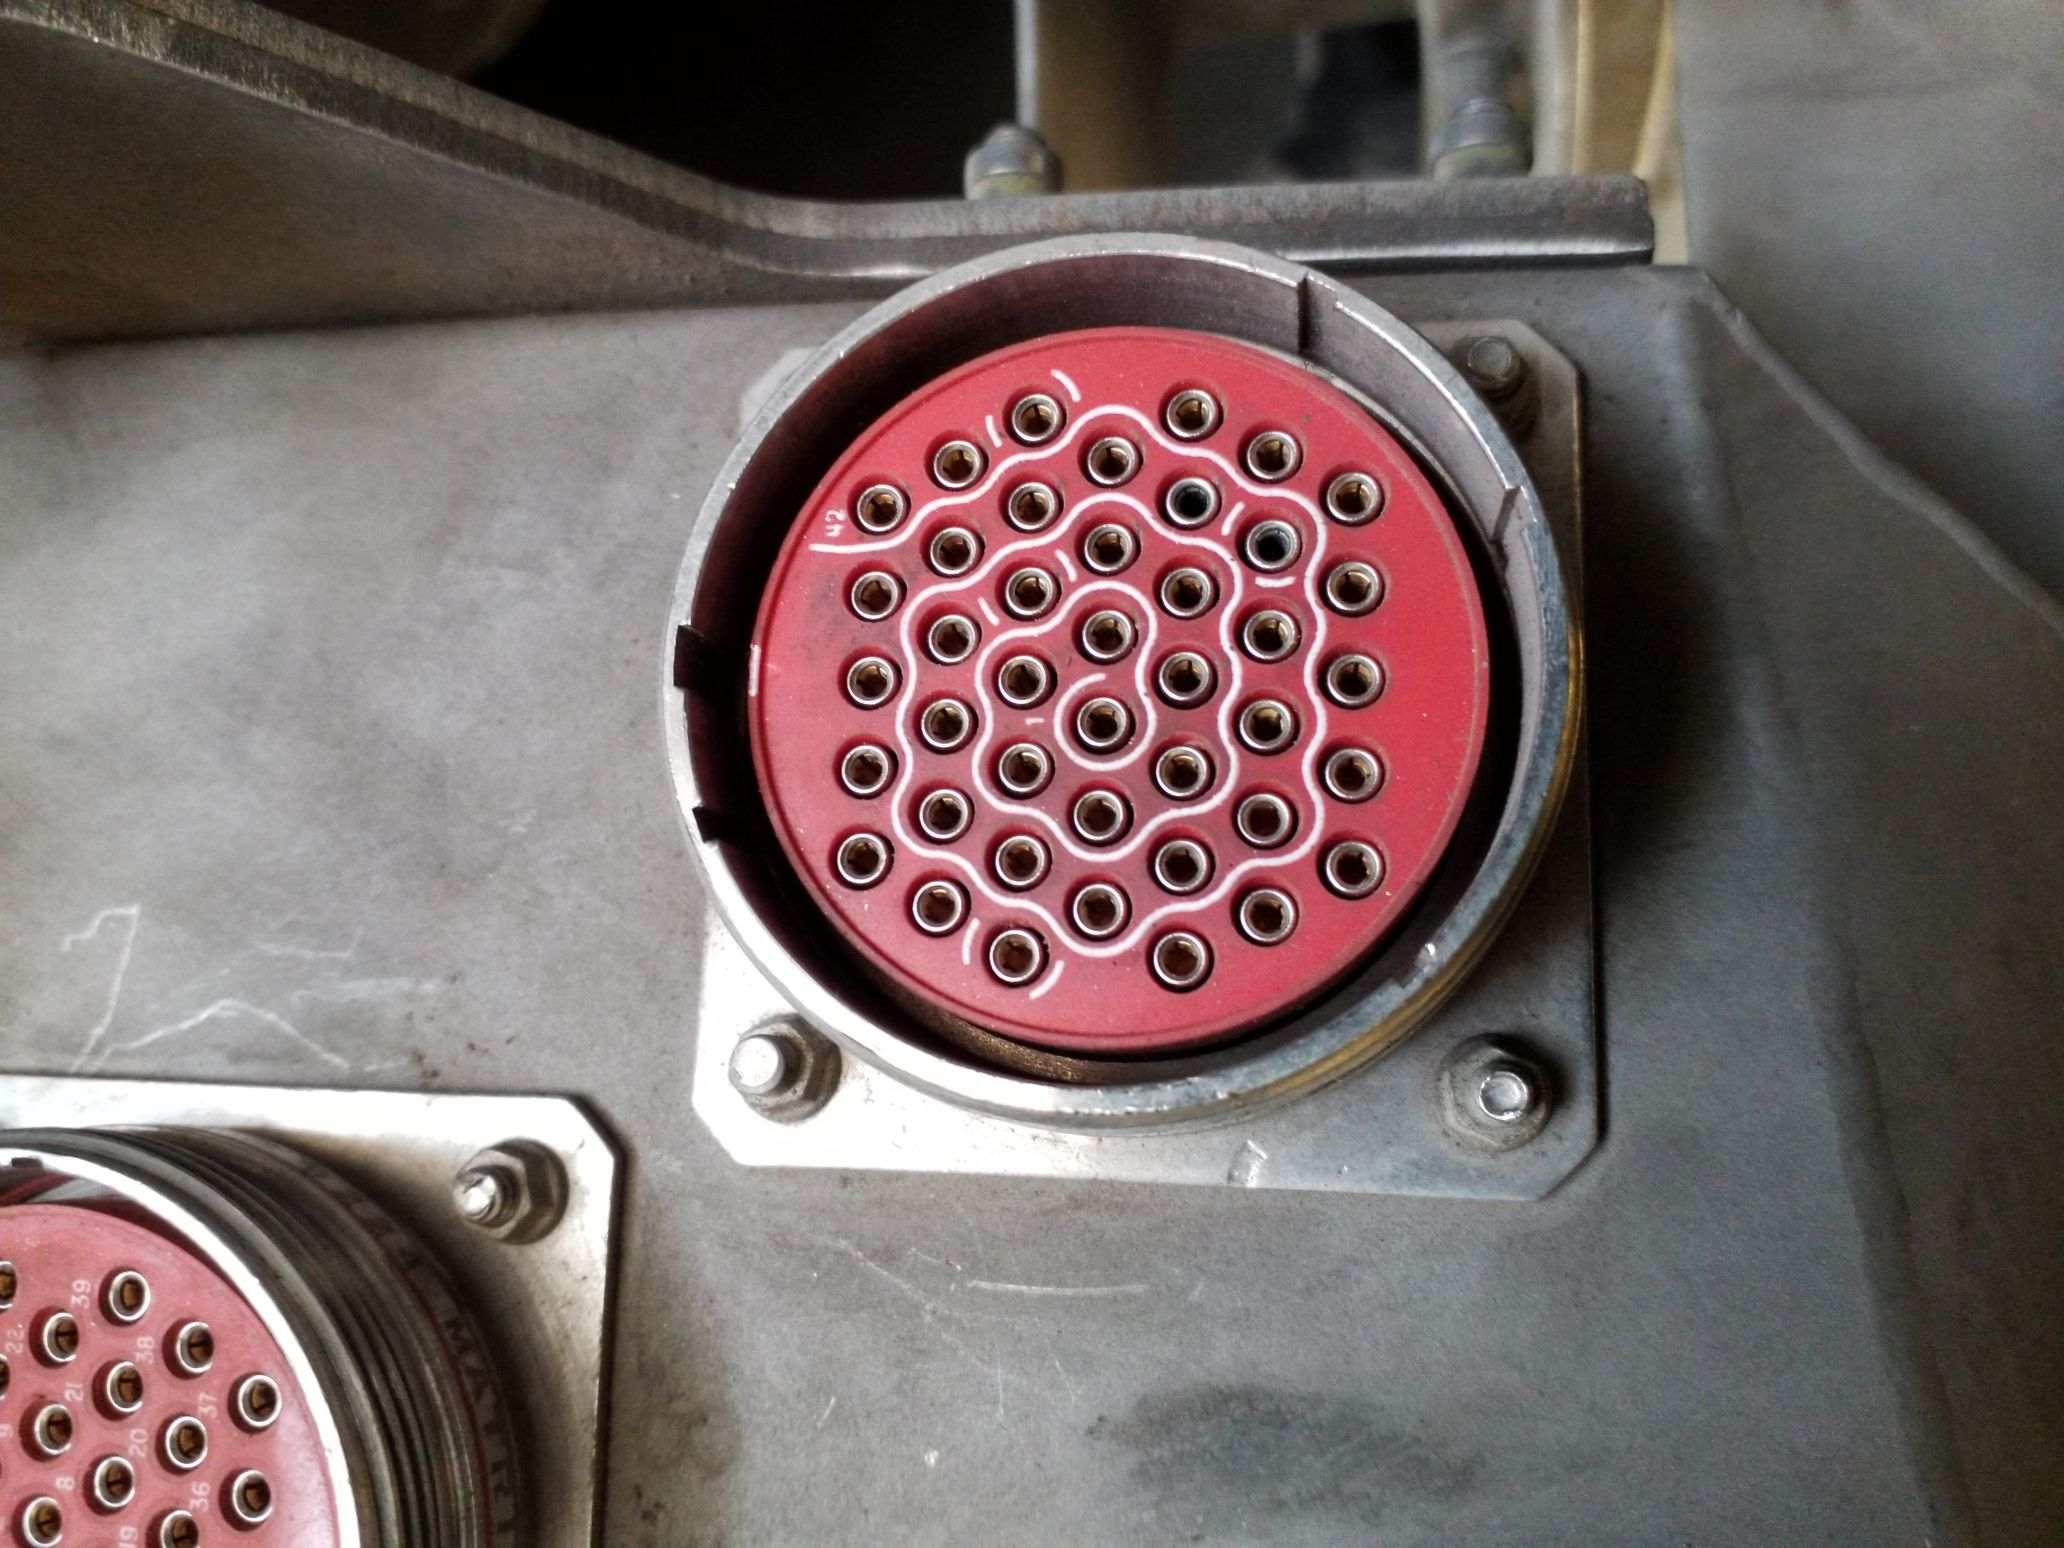inletround: (647, 216, 1598, 1153)
